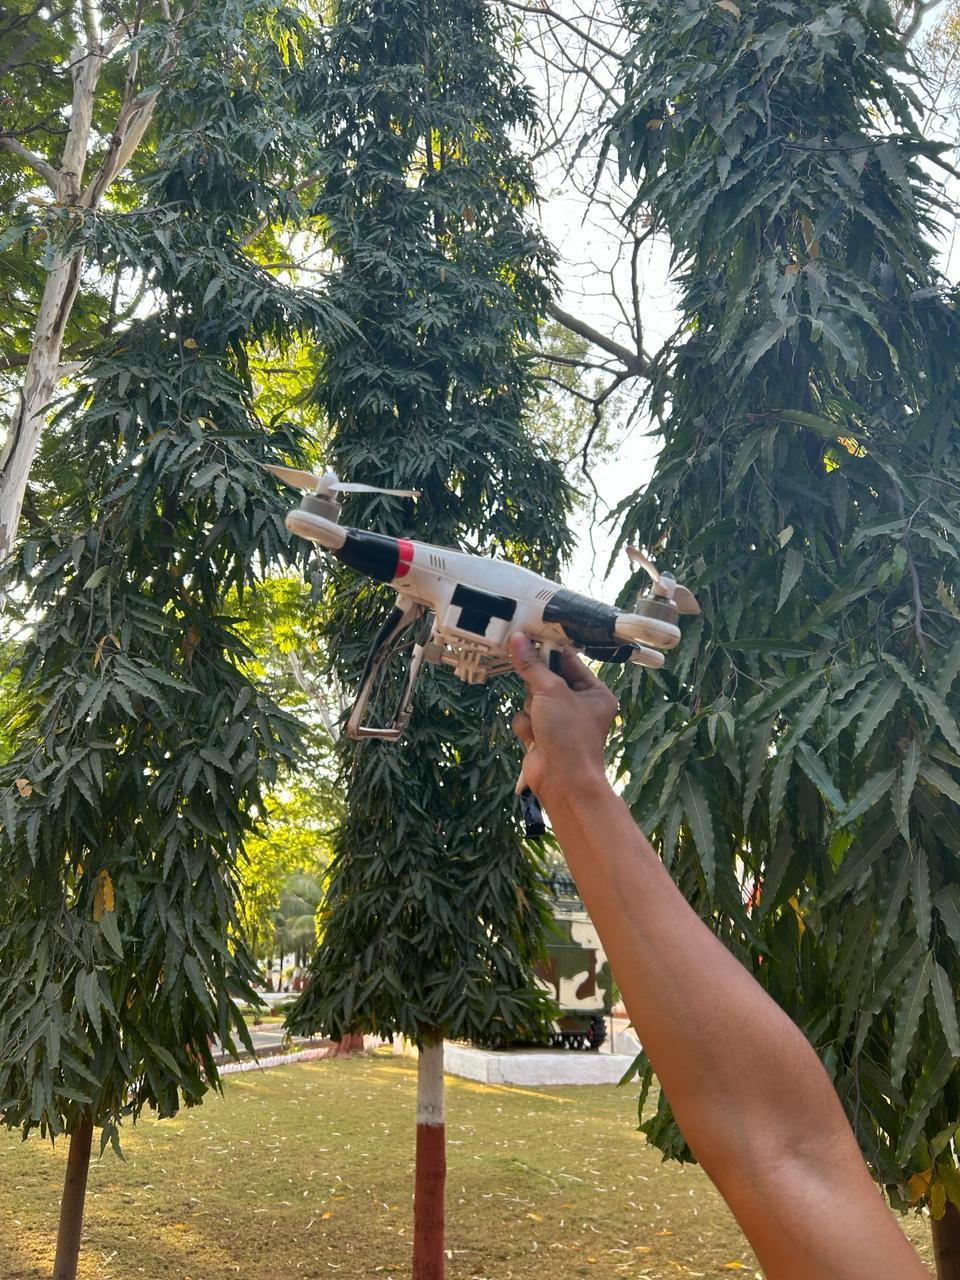drone: (224, 414, 754, 821)
